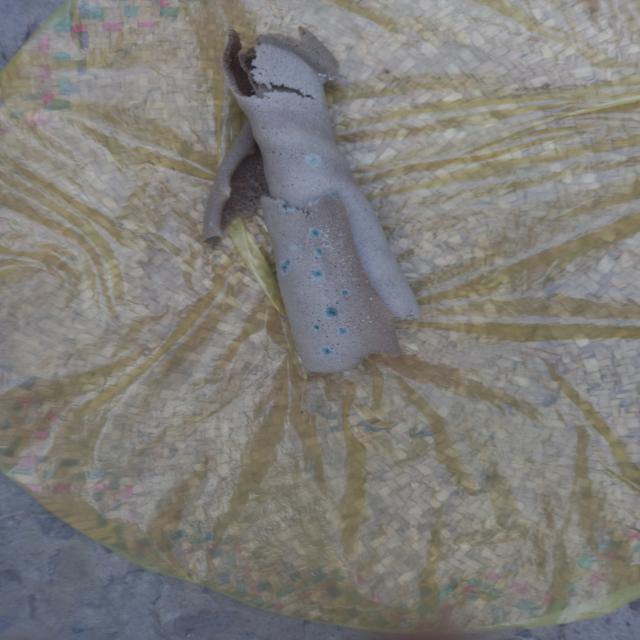injera_mold: (305, 154, 325, 168), (280, 258, 291, 276), (280, 202, 296, 214), (308, 226, 321, 240), (324, 306, 340, 317), (358, 316, 374, 326), (313, 246, 324, 259), (326, 190, 341, 199), (311, 270, 323, 280), (321, 346, 333, 356), (306, 196, 318, 206), (337, 327, 351, 335), (316, 72, 328, 80), (208, 221, 218, 230), (340, 290, 351, 297), (288, 244, 297, 252), (312, 324, 320, 332), (346, 252, 354, 260), (367, 295, 374, 303), (324, 229, 329, 239), (325, 244, 334, 249), (340, 258, 345, 262), (337, 234, 346, 236), (352, 277, 356, 281), (335, 242, 339, 246), (365, 280, 369, 283), (343, 267, 346, 271), (309, 212, 312, 216), (349, 268, 354, 270), (359, 299, 362, 302), (340, 280, 344, 282), (358, 286, 360, 289)
